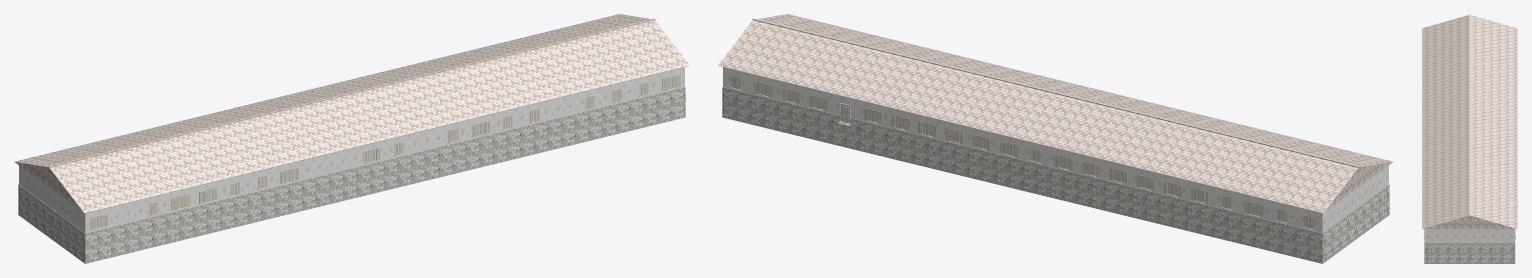
The picture shows the model from 3 angles, left to right: view 1: azimuth 30°, elevation 25°; view 2: azimuth 150°, elevation 25°; view 3: azimuth 270°, elevation 25°; orthographic projection. The views are drawn at different scales.
Parts seen in each view (by area): view 1: b947602177; view 2: b947602177; view 3: b947602177.
Part boxes in pixels (x1=…): b947602177: x1=14, y1=14, x2=689, y2=263; b947602177: x1=718, y1=14, x2=1393, y2=263; b947602177: x1=1422, y1=14, x2=1517, y2=263.
Bounding box in the file's own units: 71.14 × 8.25 × 14.36.
Materials: 16 (16 with a texture image).
